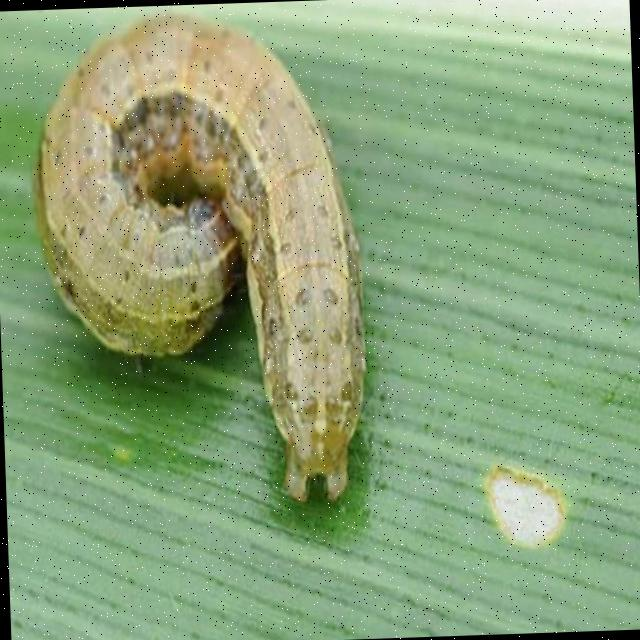worm: (28, 5, 373, 514)
